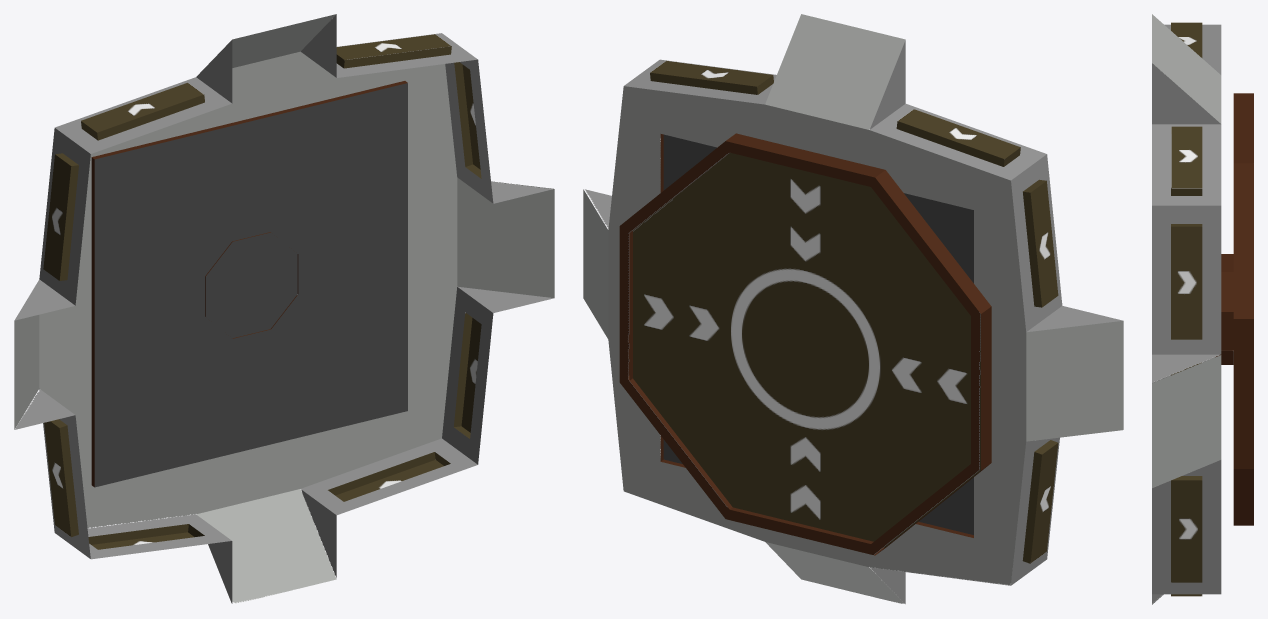
Rendered from JumpPad.fbx.
3 renders of one model, left to right at view 1: azimuth 30°, elevation 25°; view 2: azimuth 150°, elevation 25°; view 3: azimuth 270°, elevation 25°, orthographic. The views are drawn at different scales.
Visible parts, largest first — view 1: JumpPad; view 2: JumpPad; view 3: JumpPad.
Boxes of the visible parts, left/top/right/bottom form: JumpPad: left=14, top=14, right=554, bottom=603; JumpPad: left=583, top=14, right=1123, bottom=604; JumpPad: left=1152, top=14, right=1253, bottom=604.
Bounding box in the file's own units: 58.7 × 345 × 345.
